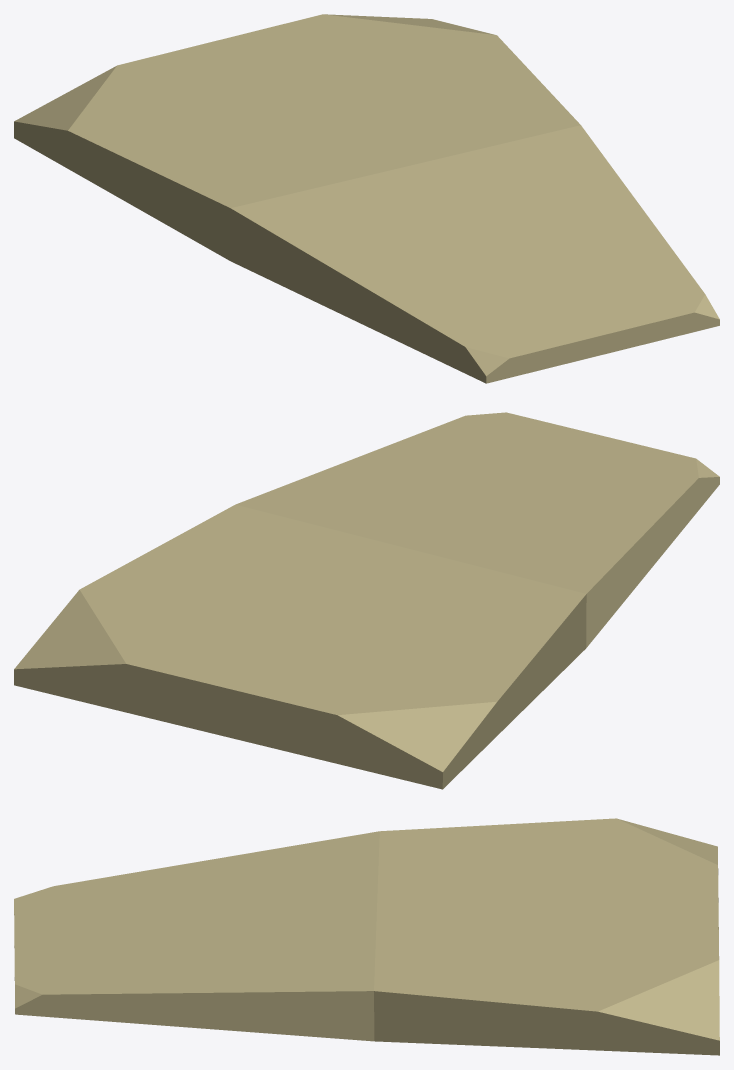
Rendered from Rtile_low.fbx.
3 renders of one model, top to bottom at view 1: azimuth 30°, elevation 25°; view 2: azimuth 150°, elevation 25°; view 3: azimuth 270°, elevation 25°, orthographic. The views are drawn at different scales.
Visible parts, largest first — view 1: Rtile_low; view 2: Rtile_low; view 3: Rtile_low.
Boxes of the visible parts, x1,y1,x2,y2 form: Rtile_low: (14,14,719,383); Rtile_low: (14,412,719,789); Rtile_low: (14,818,719,1055).
Size of the model in its own units: 43.52 by 5.33 by 67.03.
